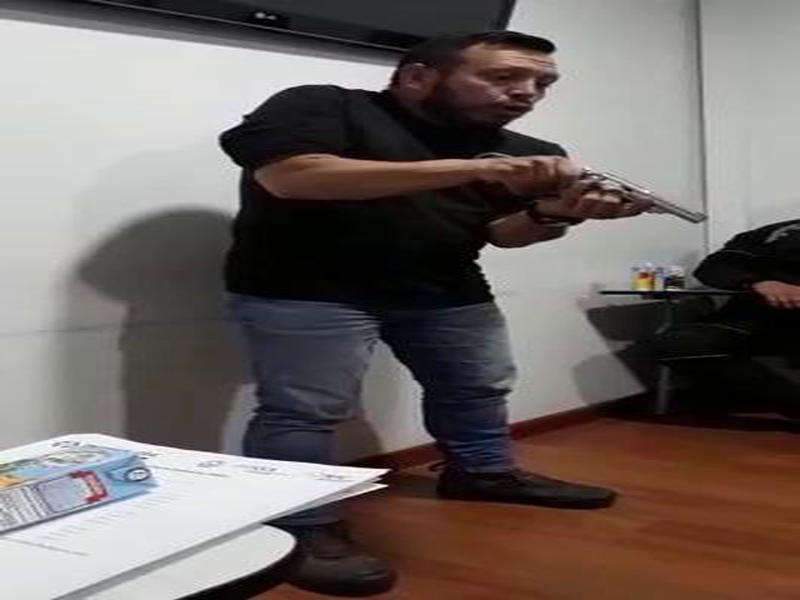Revolver: (522, 131, 737, 255)
